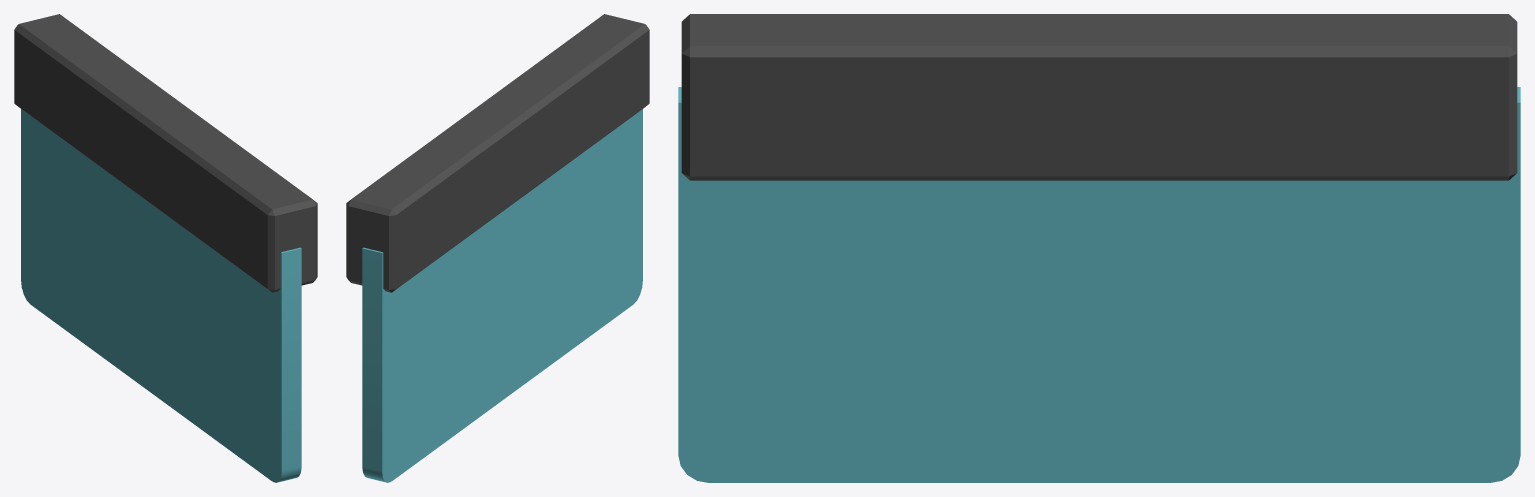
Rendered from PH_ExitPanel.fbx.
3 views of the same model, side by side, from view 1: azimuth 30°, elevation 25°; view 2: azimuth 150°, elevation 25°; view 3: azimuth 270°, elevation 25° (orthographic). The views are drawn at different scales.
Parts seen in each view (by area): view 1: ExitPanel.001, ExitPanel; view 2: ExitPanel.001, ExitPanel; view 3: ExitPanel.001, ExitPanel.
Boxes of the visible parts, left/top/right/bottom form: ExitPanel.001: left=21, top=109, right=301, bottom=482; ExitPanel: left=14, top=14, right=317, bottom=292; ExitPanel.001: left=362, top=109, right=642, bottom=482; ExitPanel: left=346, top=14, right=649, bottom=292; ExitPanel.001: left=678, top=87, right=1520, bottom=482; ExitPanel: left=681, top=14, right=1517, bottom=180.
Bounding box in the file's own units: 1.97 × 10.5 × 17.86.
